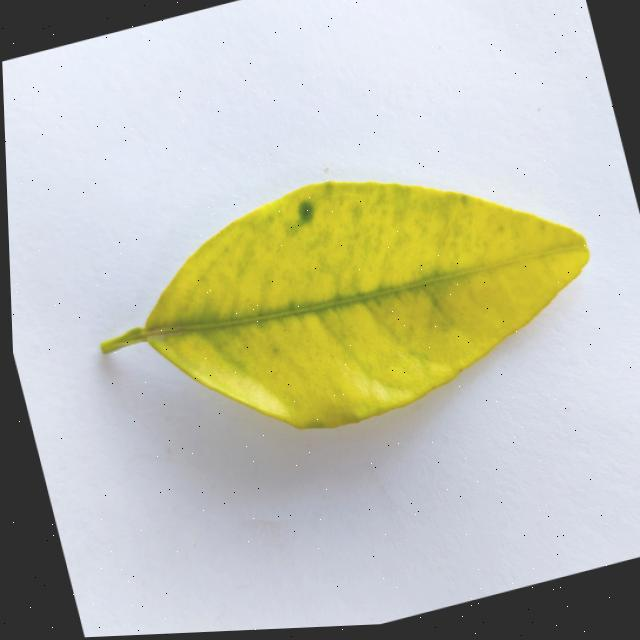greening: (102, 181, 589, 427)
